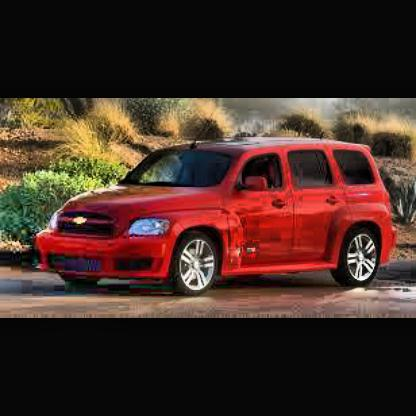Chevrolet HHR SS 2010: (36, 138, 399, 296)
